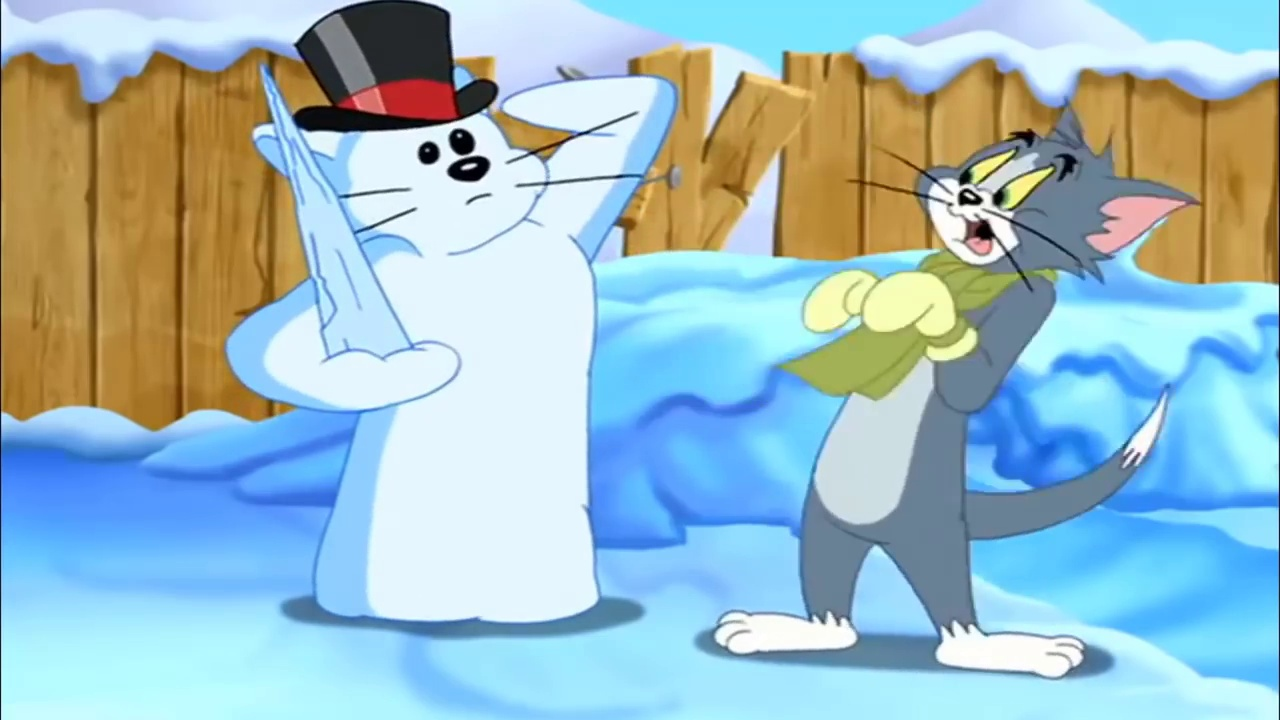face: (931, 126, 1079, 267)
